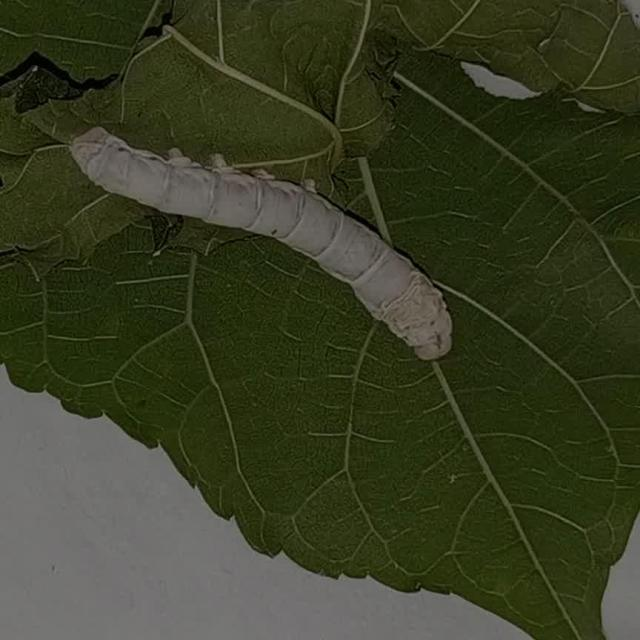Healthy: (82, 129, 464, 373)
